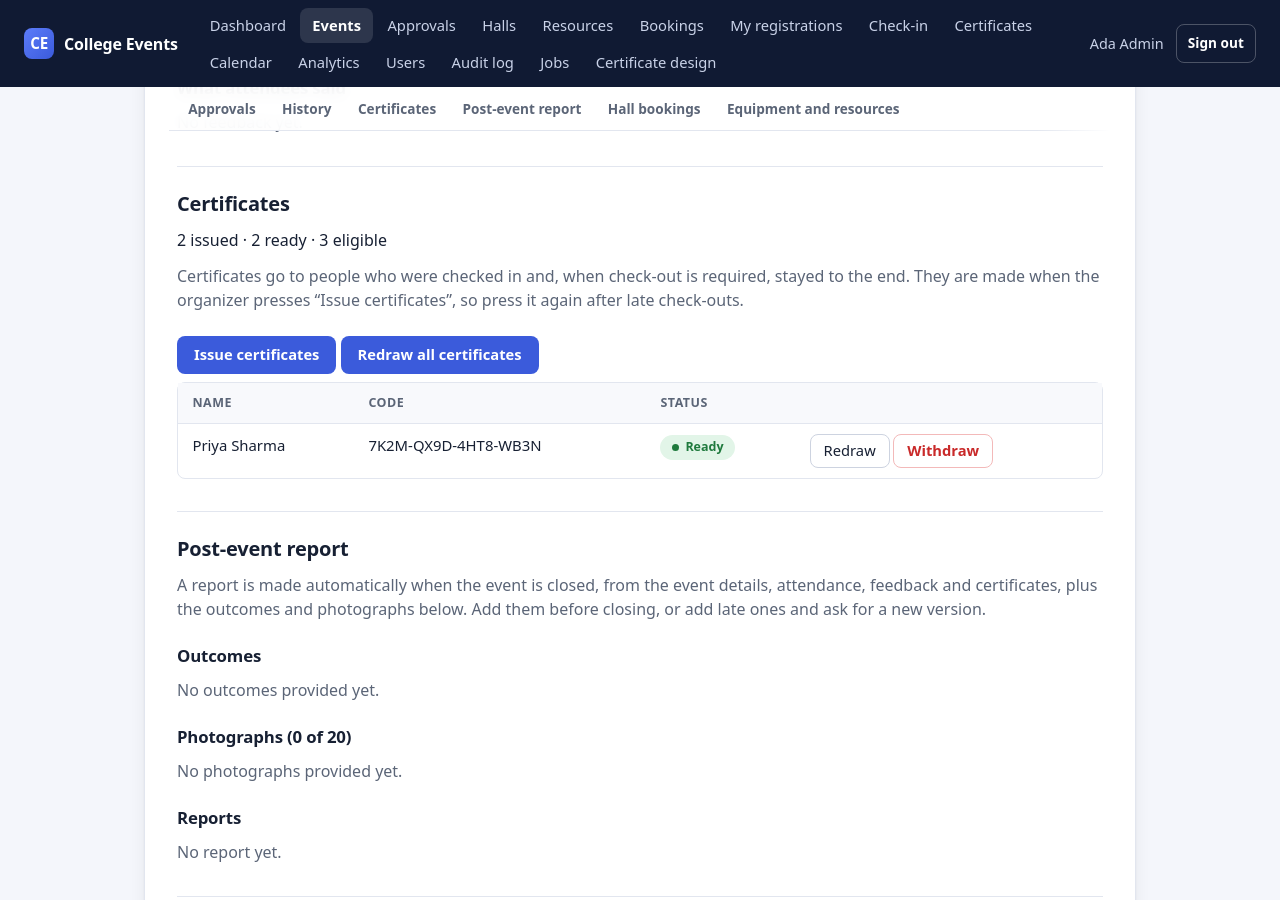
certificates on the event page (staff) › lets only an admin redraw a certificate
The width and height of the screenshot is (1280, 900).
(page scrolled)
Click the button with aria-label "Redraw certificate for Priya Sharma" at point(850, 451), box [810, 434, 890, 468]
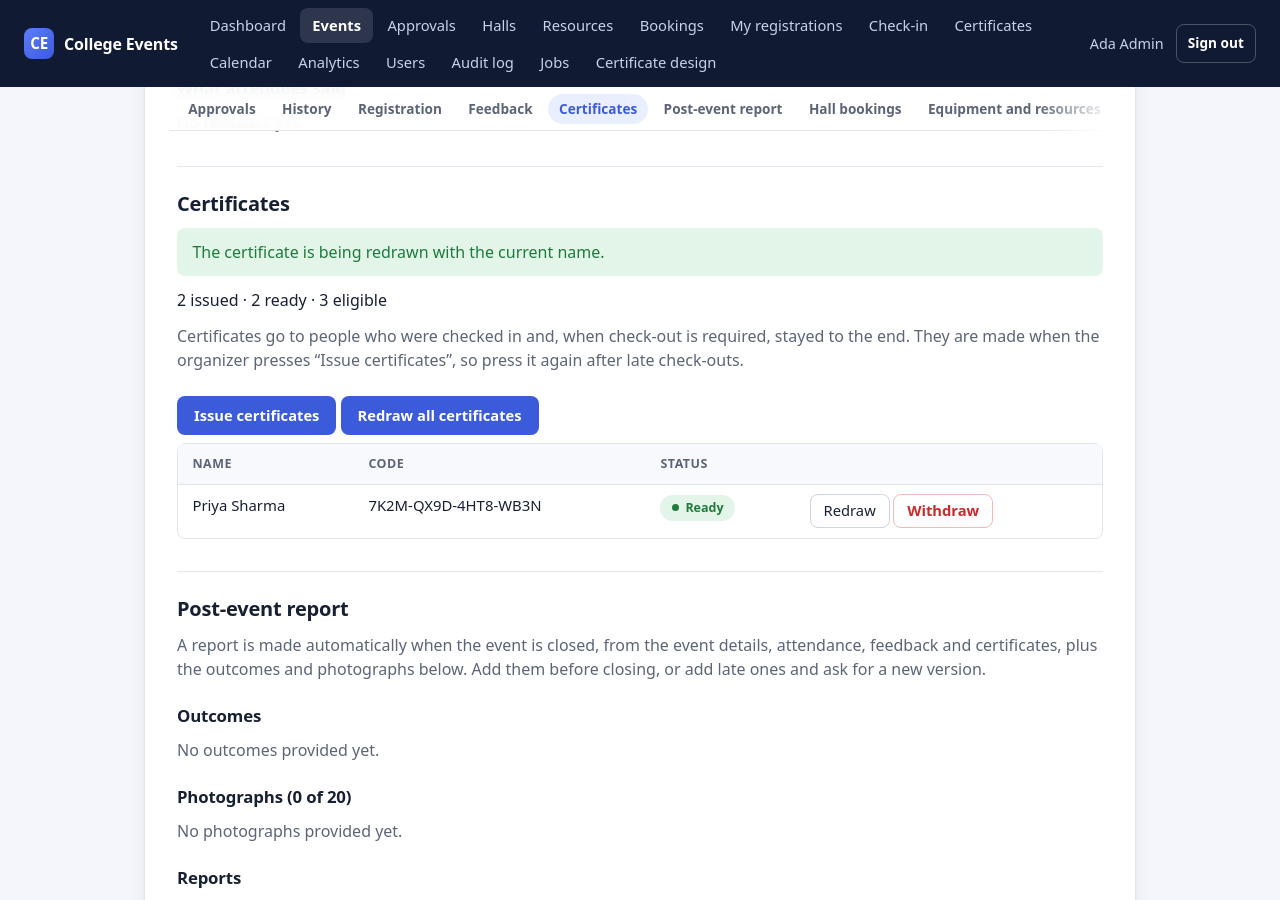
Check: the message shows "redrawn with the current name", box [192, 241, 604, 263]
